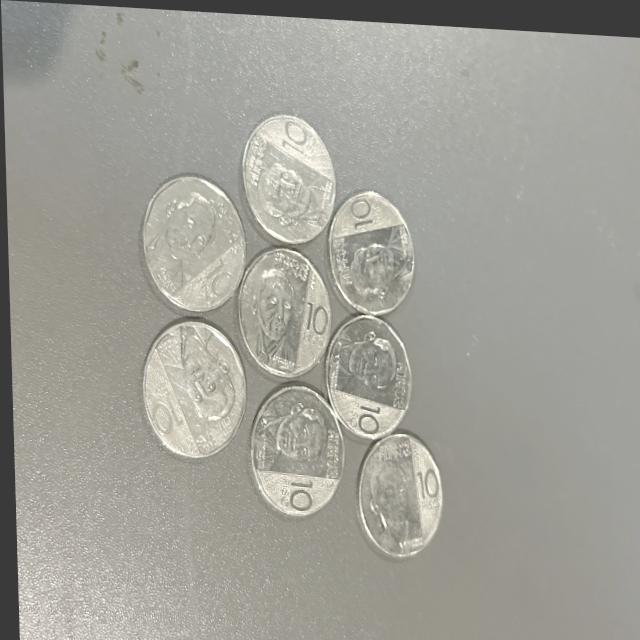10_New_Front: (245, 377, 345, 511), (346, 420, 441, 553), (141, 328, 230, 461), (239, 250, 331, 369), (142, 183, 237, 295), (258, 111, 326, 250), (314, 321, 397, 427), (336, 201, 401, 304)
